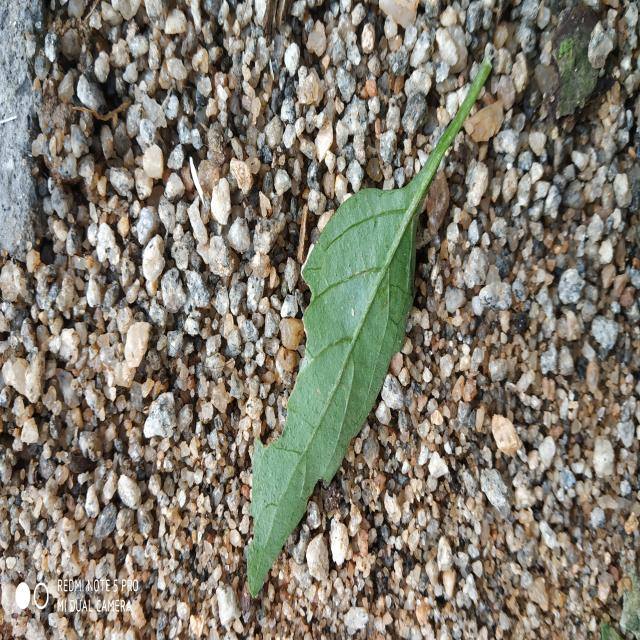ganike: (248, 58, 491, 596)
